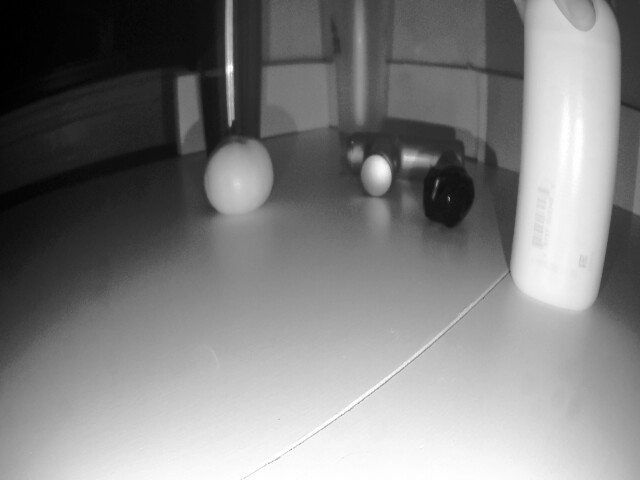black: (423, 164, 480, 221)
